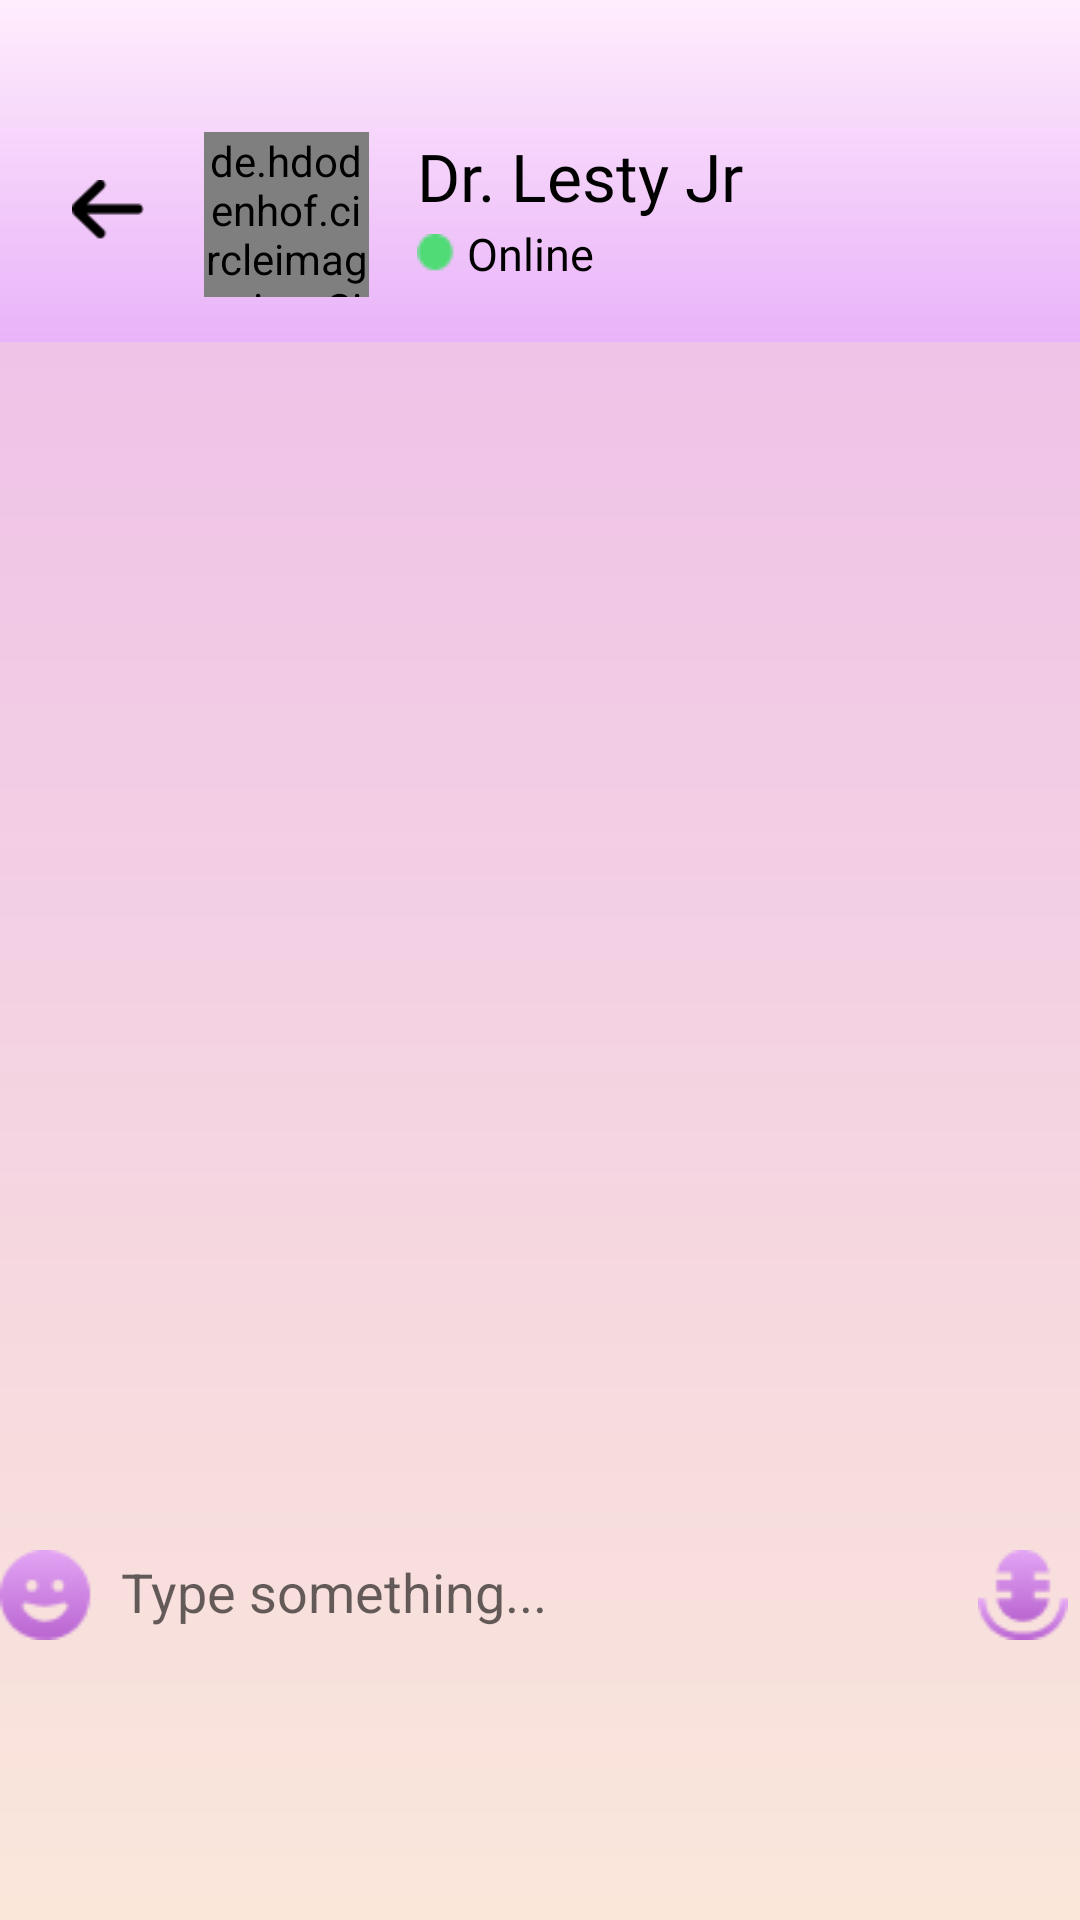

Named icons in this screenshot (1080*1920) and their centers, point (x, y):
back: point (108, 209)
emote: point (45, 1595)
microphone: point (1023, 1595)
